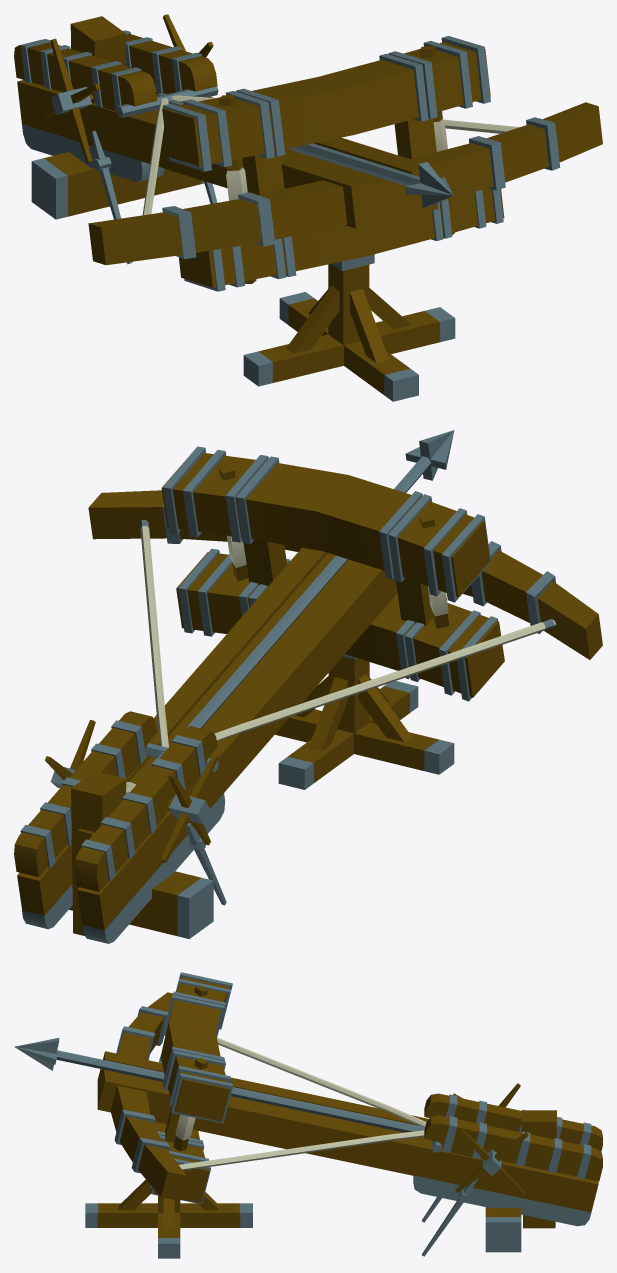
Rendered from ballista.glb.
3 views of the same model, one above another, from view 1: azimuth 30°, elevation 25°; view 2: azimuth 150°, elevation 25°; view 3: azimuth 270°, elevation 25° (orthographic). The views are drawn at different scales.
Parts seen in each view (by area): view 1: Ballista_Scale; view 2: Ballista_Scale; view 3: Ballista_Scale.
Boxes of the visible parts, x1=… form: Ballista_Scale: x1=14, y1=14, x2=602, y2=401; Ballista_Scale: x1=14, y1=430, x2=602, y2=943; Ballista_Scale: x1=14, y1=972, x2=602, y2=1258.
Size of the model in its own units: 1.44 by 0.8144 by 2.
Materials: 1 (1 with a texture image).
